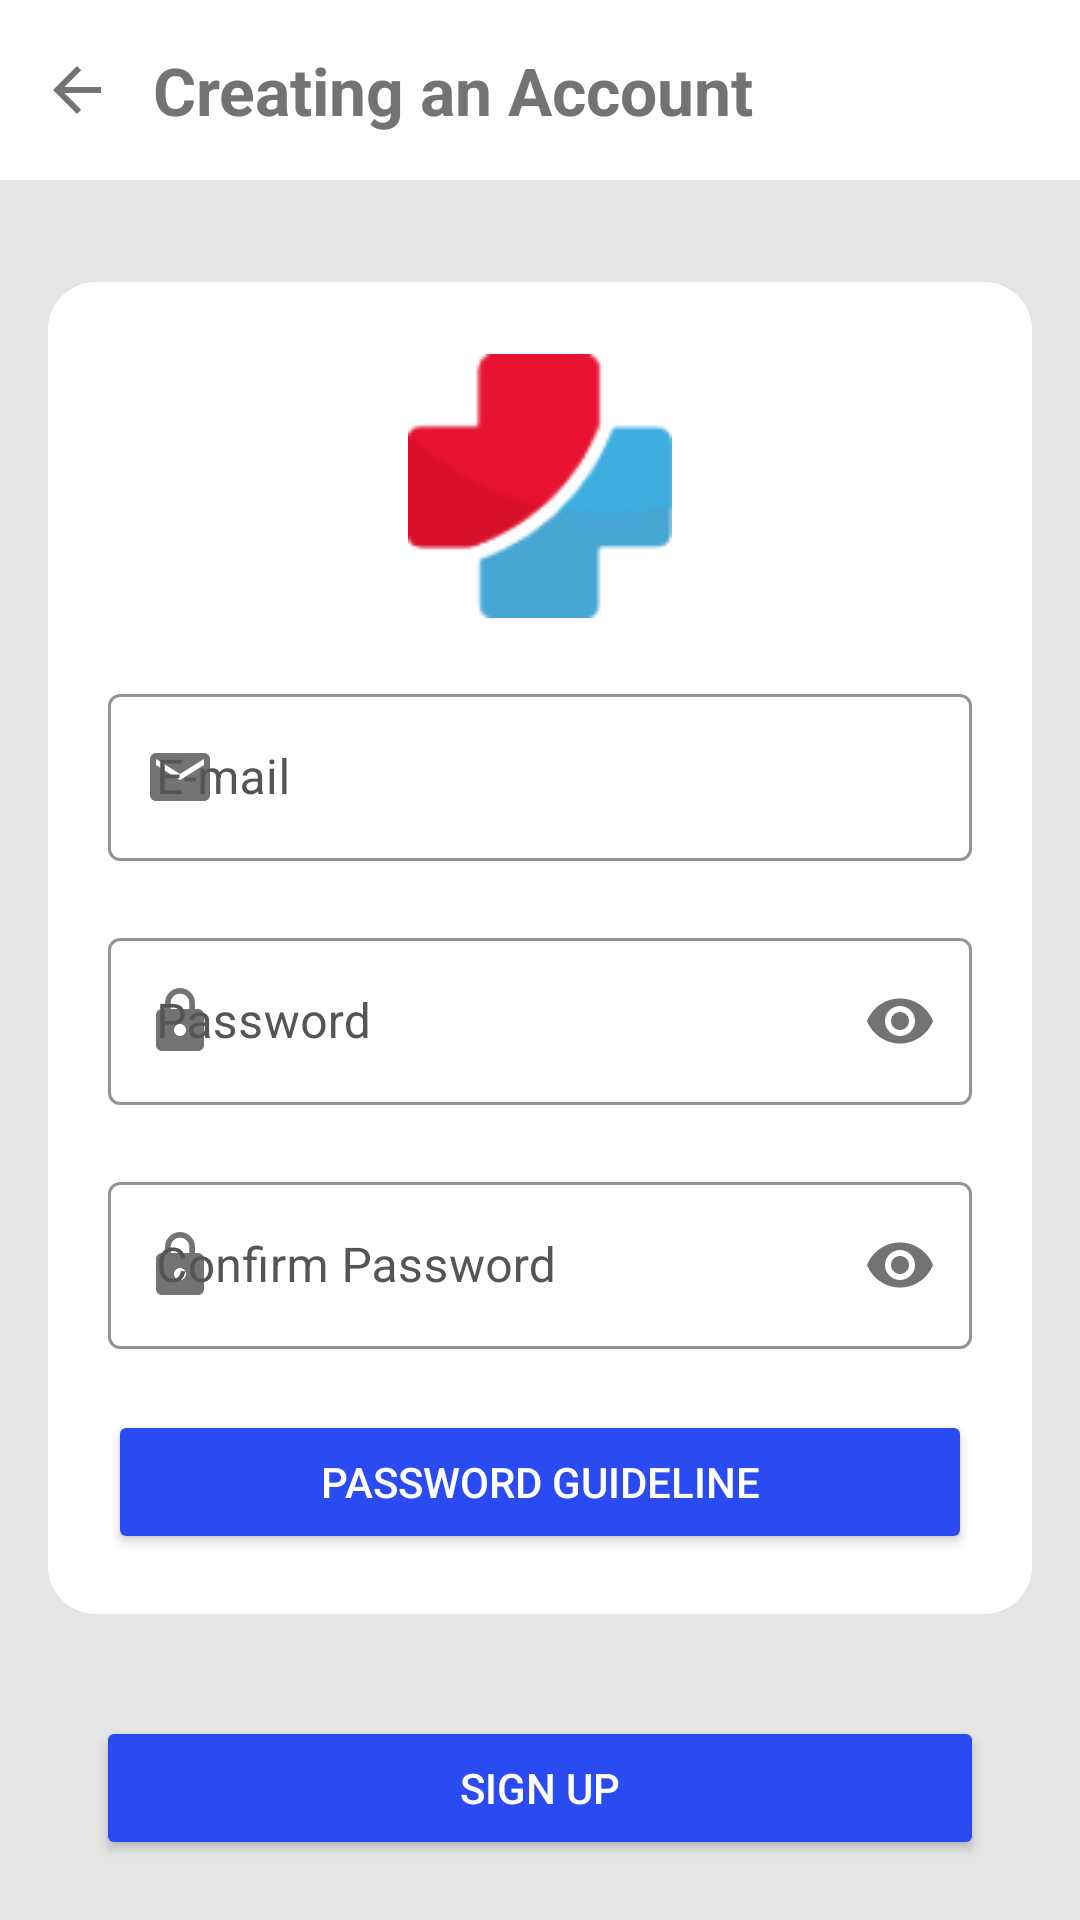

Icon bounding boxes for this 1080 × 1920 phone screenshot, format (x1, y1, x2, y2):
Back: (53, 66, 101, 114)
